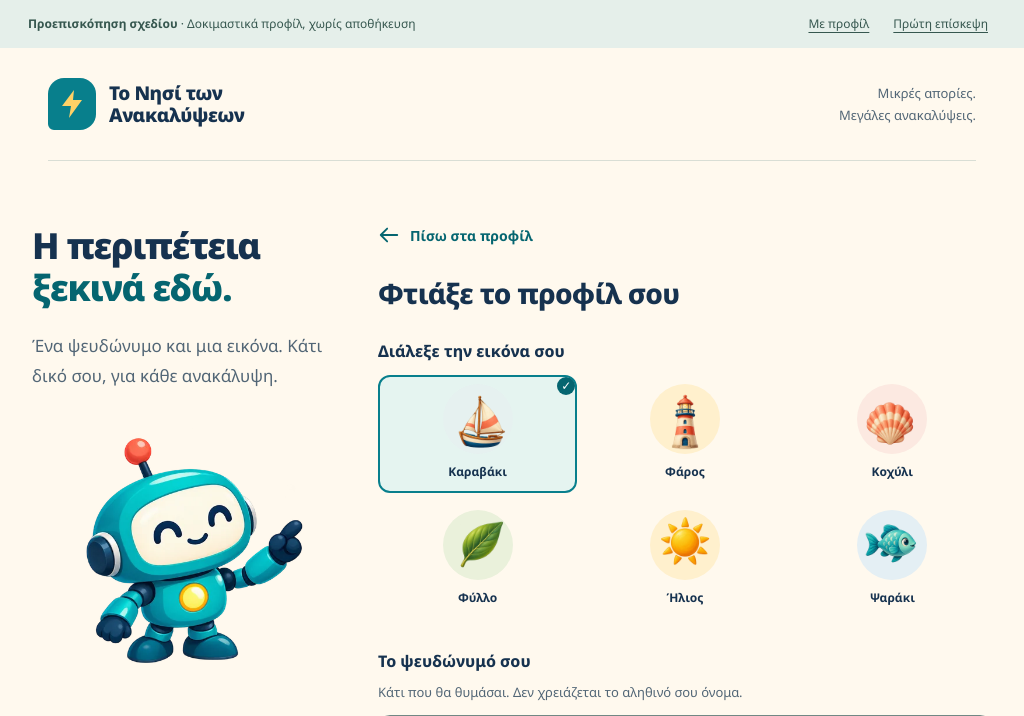
it: profile selection route › returns to the chooser from the brand link
Step 1. Click the link "Το Νησί των" → (146, 104), box [48, 78, 244, 130]
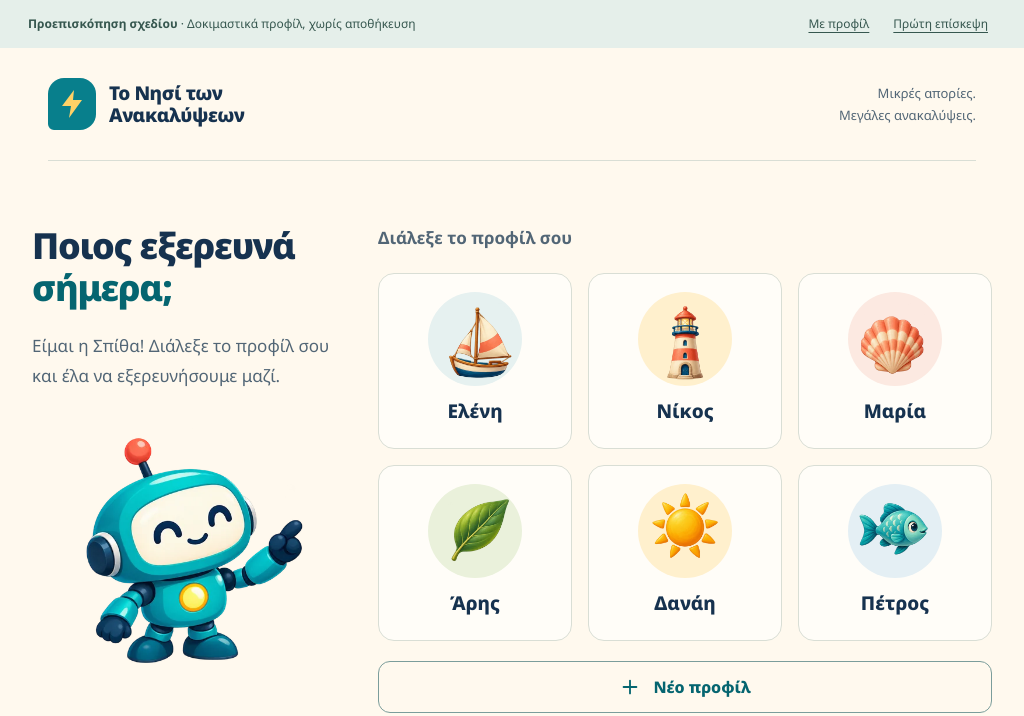
Now the heading "Διάλεξε το προφίλ σου" is shown, box [378, 226, 572, 249]
